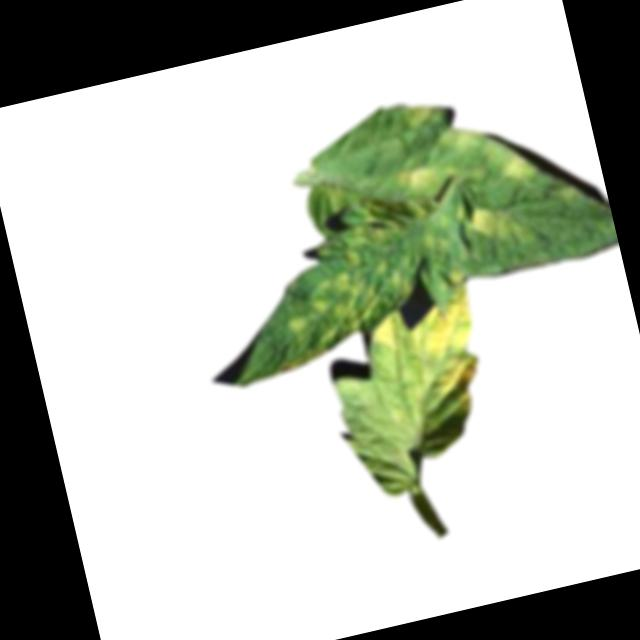Leaf_Mold: (257, 217, 434, 373), (364, 284, 500, 427), (464, 193, 529, 254), (484, 131, 538, 190), (394, 157, 452, 199), (397, 95, 448, 138), (446, 270, 468, 289)
